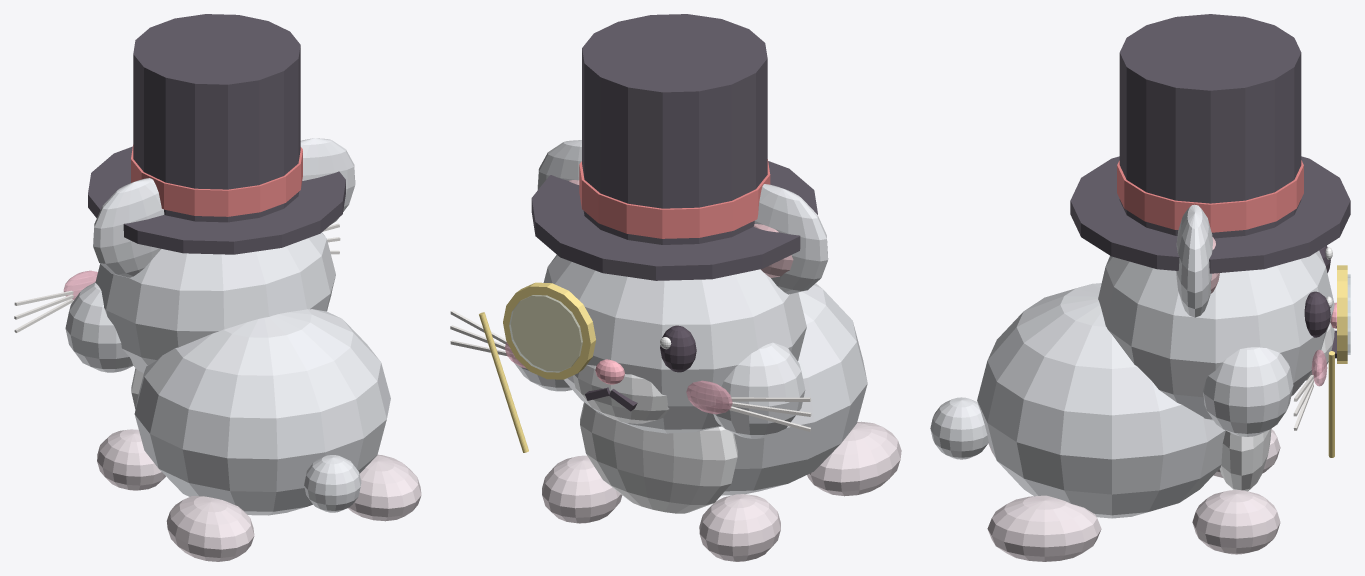
The model's file is ShinyHamsterSilver.glb.
3 views of the same model, side by side, from view 1: azimuth 30°, elevation 25°; view 2: azimuth 150°, elevation 25°; view 3: azimuth 270°, elevation 25° (orthographic). The views are drawn at different scales.
Parts seen in each view (by area): view 1: ShinyHamsterSilver_3, ShinyHamsterSilver_1, ShinyHamsterSilver_4, ShinyHamsterSilver_5, ShinyHamsterSilver_6, ShinyHamsterSilver_9; view 2: ShinyHamsterSilver_3, ShinyHamsterSilver_1, ShinyHamsterSilver_7, ShinyHamsterSilver_4, ShinyHamsterSilver_11, ShinyHamsterSilver_5, ShinyHamsterSilver_2, ShinyHamsterSilver_6, ShinyHamsterSilver_0, ShinyHamsterSilver_9, ShinyHamsterSilver_8, ShinyHamsterSilver_10; view 3: ShinyHamsterSilver_3, ShinyHamsterSilver_1, ShinyHamsterSilver_4, ShinyHamsterSilver_5, ShinyHamsterSilver_7, ShinyHamsterSilver_11, ShinyHamsterSilver_0.
Boxes of the visible parts, <box> form: ShinyHamsterSilver_3: <box>65,138,390,515</box>; ShinyHamsterSilver_1: <box>88,14,345,254</box>; ShinyHamsterSilver_4: <box>97,429,421,561</box>; ShinyHamsterSilver_5: <box>131,145,302,216</box>; ShinyHamsterSilver_6: <box>14,223,340,332</box>; ShinyHamsterSilver_9: <box>63,270,97,299</box>; ShinyHamsterSilver_3: <box>512,140,867,495</box>; ShinyHamsterSilver_1: <box>531,14,817,280</box>; ShinyHamsterSilver_7: <box>573,364,737,513</box>; ShinyHamsterSilver_4: <box>542,421,901,561</box>; ShinyHamsterSilver_11: <box>479,282,595,452</box>; ShinyHamsterSilver_5: <box>579,159,770,238</box>; ShinyHamsterSilver_2: <box>509,295,582,372</box>; ShinyHamsterSilver_6: <box>450,310,811,431</box>; ShinyHamsterSilver_0: <box>585,325,696,411</box>; ShinyHamsterSilver_9: <box>505,342,732,414</box>; ShinyHamsterSilver_8: <box>595,359,624,384</box>; ShinyHamsterSilver_10: <box>569,180,793,277</box>; ShinyHamsterSilver_3: <box>930,204,1334,518</box>; ShinyHamsterSilver_1: <box>1070,14,1350,273</box>; ShinyHamsterSilver_4: <box>987,429,1280,561</box>; ShinyHamsterSilver_5: <box>1117,160,1303,232</box>; ShinyHamsterSilver_7: <box>1219,323,1334,491</box>; ShinyHamsterSilver_11: <box>1328,265,1347,457</box>; ShinyHamsterSilver_0: <box>1304,245,1336,358</box>.
Bounding box in the file's own units: 3.89 × 4.9 × 4.05.
